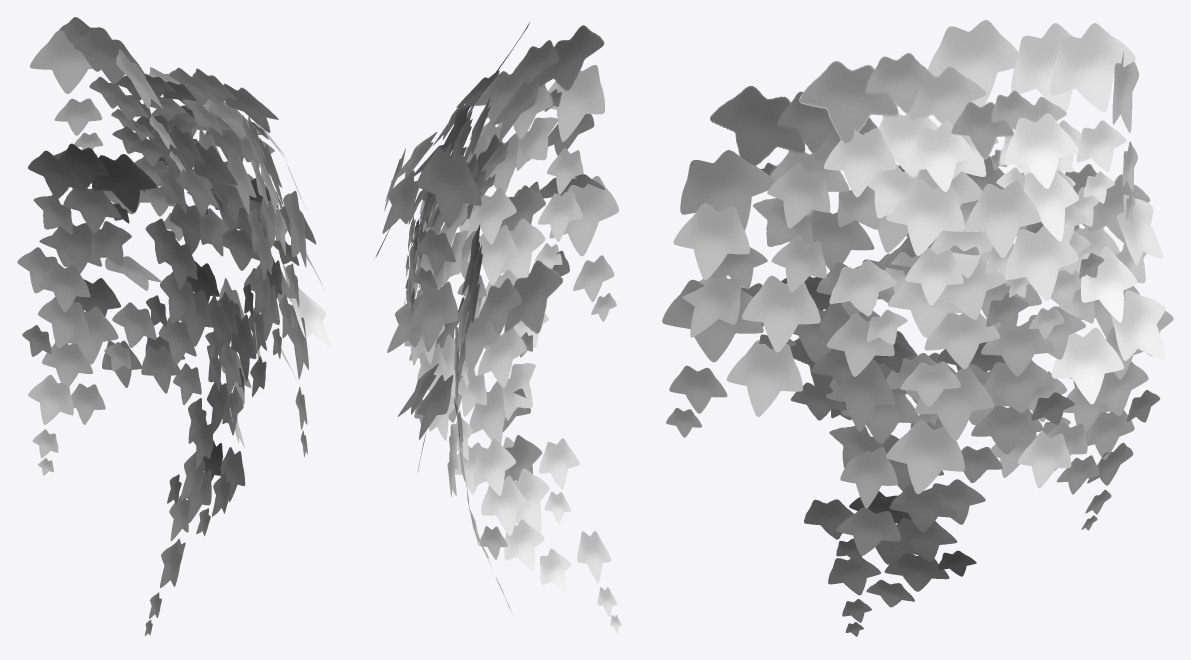
File: new_ivy.fbx
The picture shows the model from 3 angles, left to right: view 1: azimuth 30°, elevation 25°; view 2: azimuth 150°, elevation 25°; view 3: azimuth 270°, elevation 25°; orthographic projection. The views are drawn at different scales.
Visible parts, largest first — view 1: Object008; view 2: Object008; view 3: Object008.
Part boxes in pixels (left/top/right/bottom): Object008: left=17, top=17, right=331, bottom=635; Object008: left=373, top=21, right=621, bottom=633; Object008: left=662, top=20, right=1173, bottom=636.
Size of the model in its own units: 1.12 by 2.52 by 3.47.
